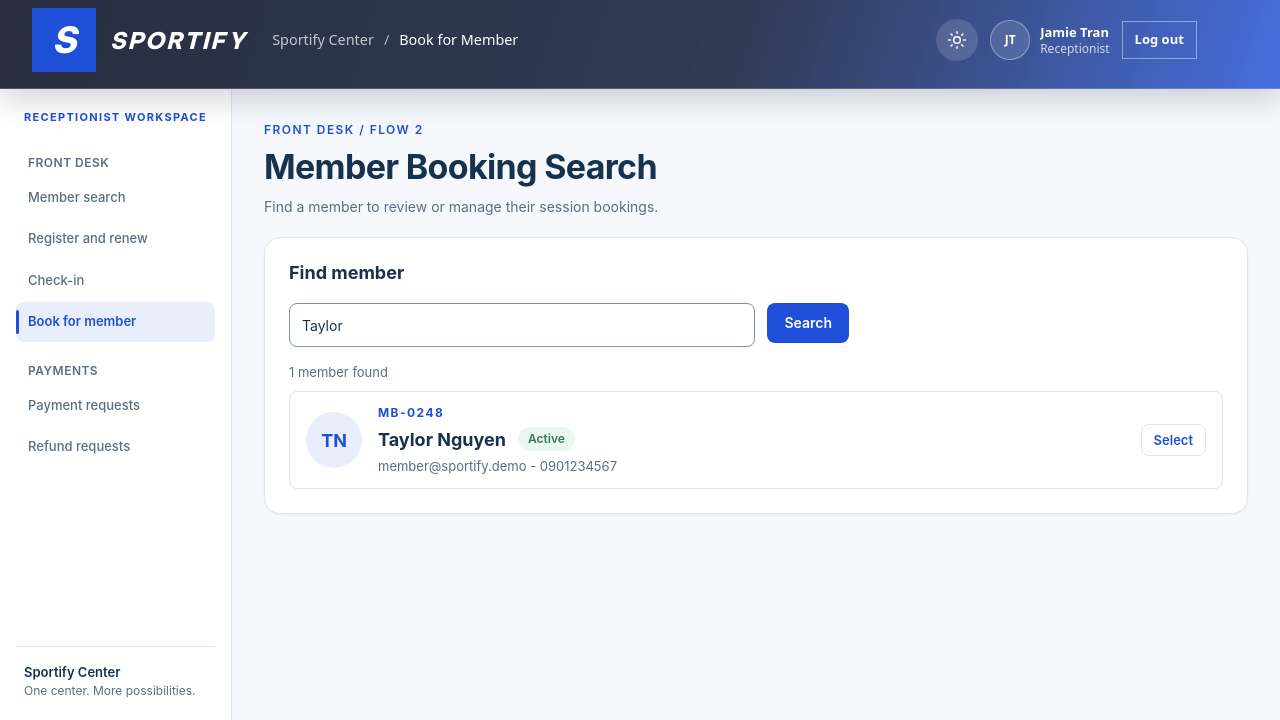
FE-10 receptionist booking screens › searches for a member, shows their booking history and confirms cancellation once
Step 1. Click the button with aria-label "select Taylor Nguyen" → point(1173, 440), box [1141,424,1206,456]
(page scrolled)
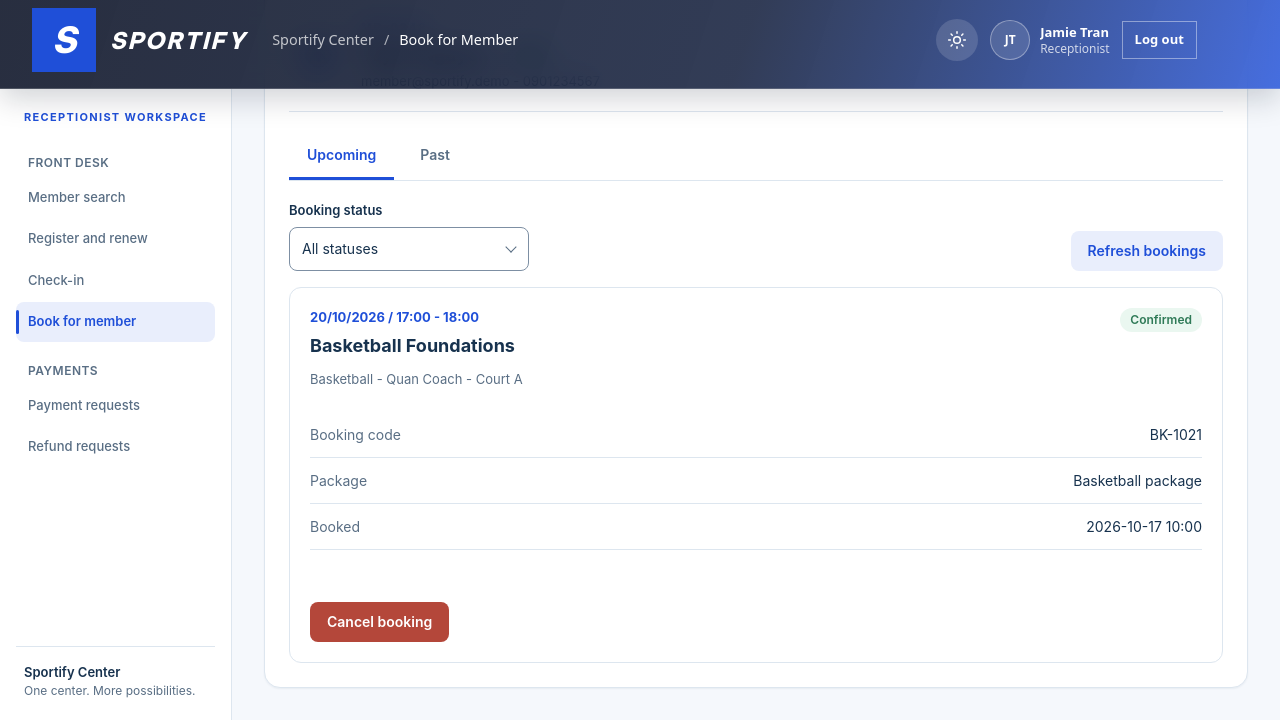
Expected: the text "BK-1021" is shown, [1150,424,1202,445]
Step 2. Click the button "Cancel booking" → point(380, 622), box [310,602,449,642]
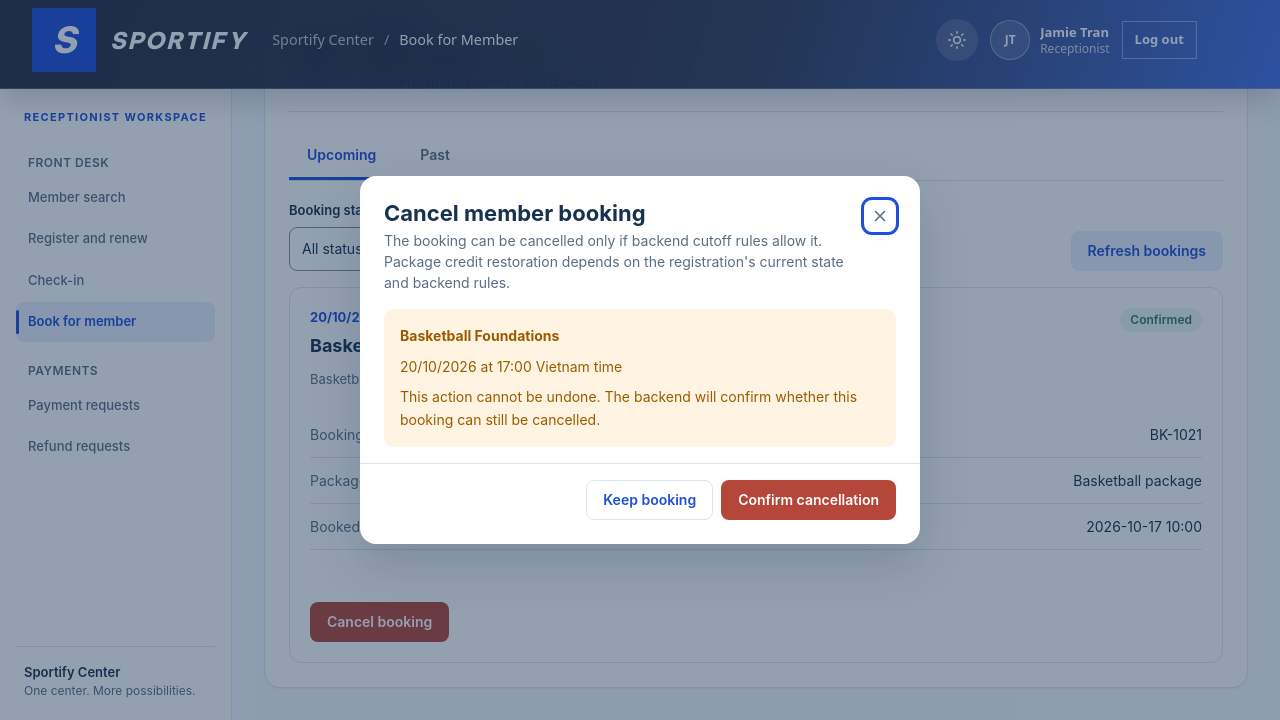
Expected: the text "Package credit restoration depends on the registration's current state" is shown, [384,232,844,291]
Step 3. Click the button "Confirm cancellation" → point(809, 500), box [721,480,896,520]
(page scrolled)
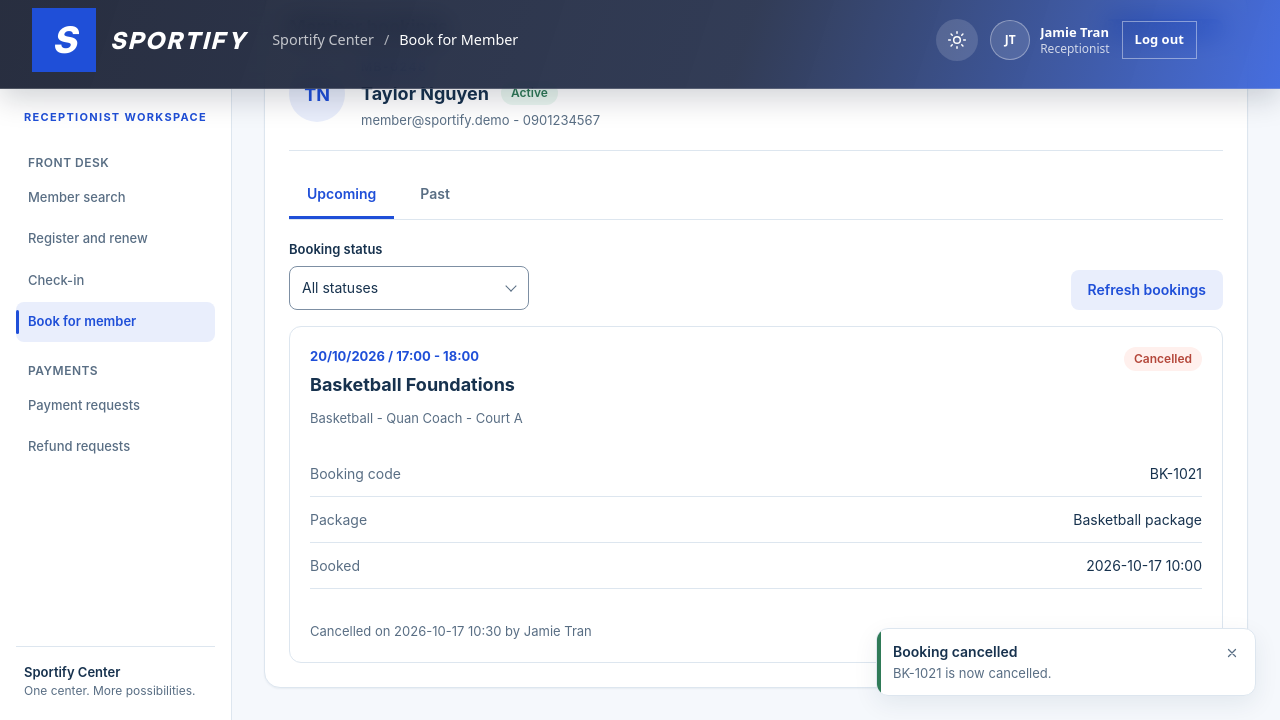
Expected: the text "BK-1021 is now cancelled." is shown, [893,664,1052,680]
